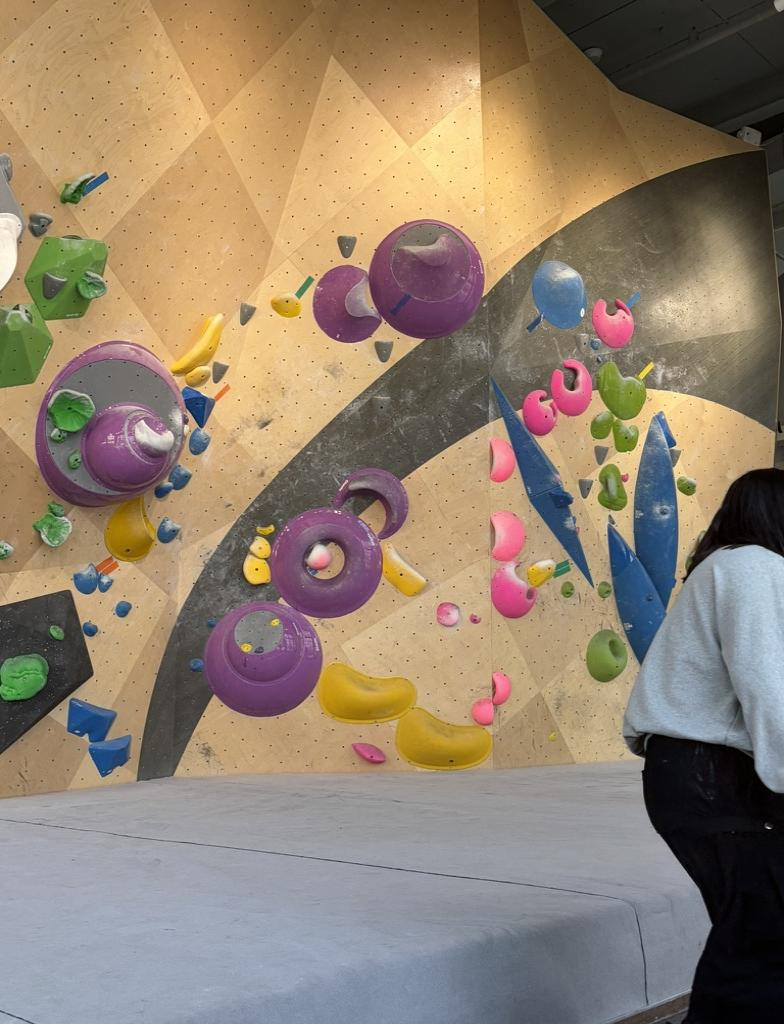crimp: (256, 524, 275, 533), (64, 235, 81, 239)
downhold: (43, 272, 66, 299), (29, 212, 51, 236), (338, 235, 355, 258), (376, 340, 393, 362), (239, 303, 255, 325), (212, 361, 228, 382), (579, 479, 593, 498), (595, 446, 608, 464), (575, 333, 589, 349), (670, 448, 680, 466), (599, 452, 599, 452), (584, 486, 584, 486)
jib: (115, 600, 131, 617), (84, 621, 98, 636), (50, 626, 62, 639), (190, 659, 202, 671), (548, 731, 557, 741), (241, 643, 251, 652), (207, 618, 216, 627), (271, 618, 280, 626), (254, 646, 263, 653)
jug: (391, 230, 467, 300), (172, 314, 223, 375), (382, 542, 426, 595), (34, 512, 76, 549), (61, 175, 93, 202), (77, 270, 106, 299), (612, 419, 638, 451), (527, 560, 554, 587), (74, 564, 98, 594), (271, 293, 300, 317), (590, 410, 614, 438), (307, 542, 331, 569), (168, 464, 191, 489), (157, 517, 180, 542), (185, 365, 210, 387), (189, 427, 209, 453), (250, 536, 270, 557), (677, 476, 696, 495), (154, 480, 173, 499)
ledge: (395, 707, 491, 769), (316, 663, 415, 723), (105, 496, 154, 560), (597, 361, 645, 420), (491, 562, 537, 617), (551, 360, 591, 415), (585, 629, 627, 681), (68, 698, 115, 742), (592, 299, 633, 348), (88, 735, 131, 776), (523, 391, 557, 435), (183, 387, 214, 427), (352, 742, 385, 762)
pocket: (596, 581, 611, 598), (560, 582, 574, 598)
sidepull: (634, 416, 678, 606), (607, 525, 665, 663), (313, 265, 381, 342), (491, 511, 524, 561), (598, 464, 627, 511), (490, 438, 513, 481), (492, 672, 510, 705)
sloper: (532, 261, 587, 329), (0, 653, 48, 700)
tape: (83, 173, 107, 195), (392, 293, 411, 315), (295, 276, 313, 297), (96, 556, 117, 574), (554, 559, 570, 577), (528, 313, 543, 332), (214, 384, 230, 401), (638, 362, 652, 378), (628, 292, 639, 308)
undercling: (334, 468, 407, 539), (243, 554, 270, 584), (436, 602, 459, 626)
volume: (37, 340, 186, 506), (492, 380, 592, 585), (0, 591, 92, 752), (204, 602, 322, 716), (370, 220, 483, 338), (26, 236, 106, 319), (0, 300, 51, 386)
